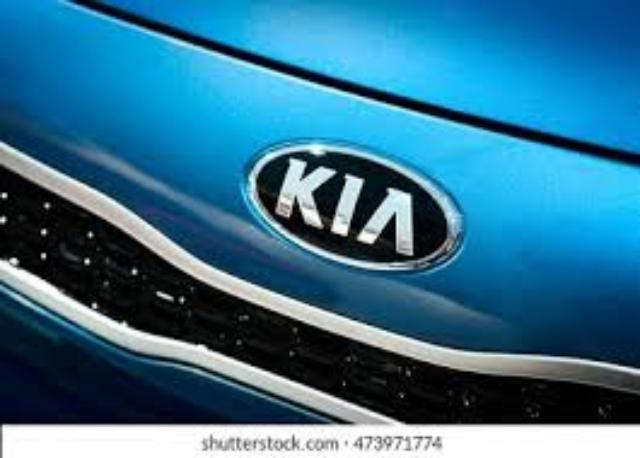kia: (0, 0, 640, 424)
